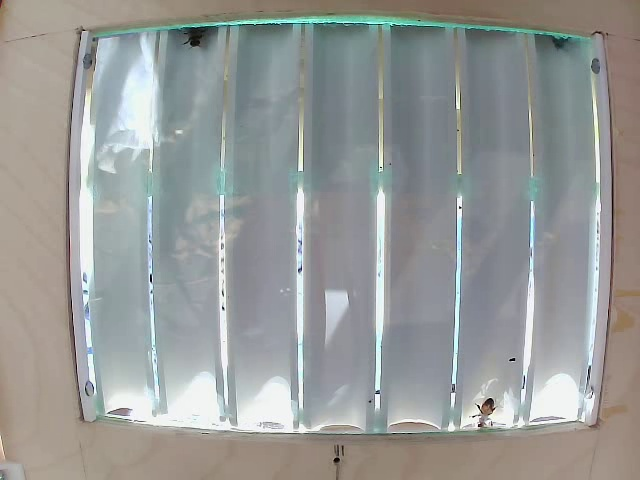bee: (467, 387, 499, 428)
